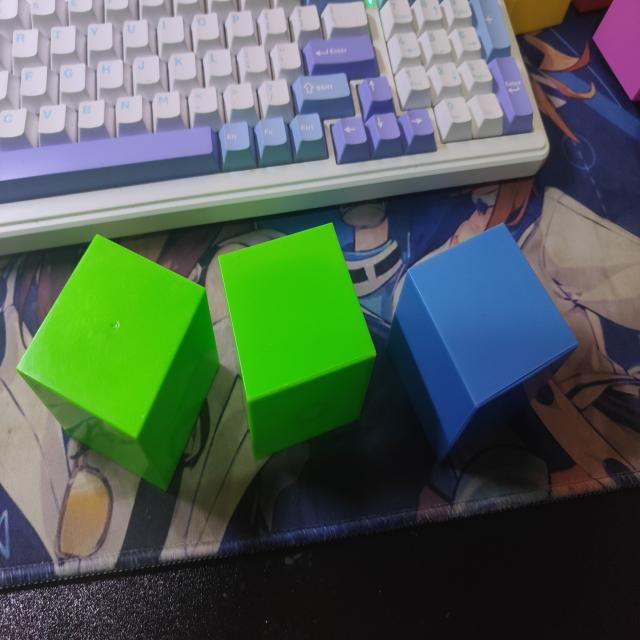blue: (383, 221, 580, 469)
green: (16, 234, 220, 496), (219, 225, 377, 461)
